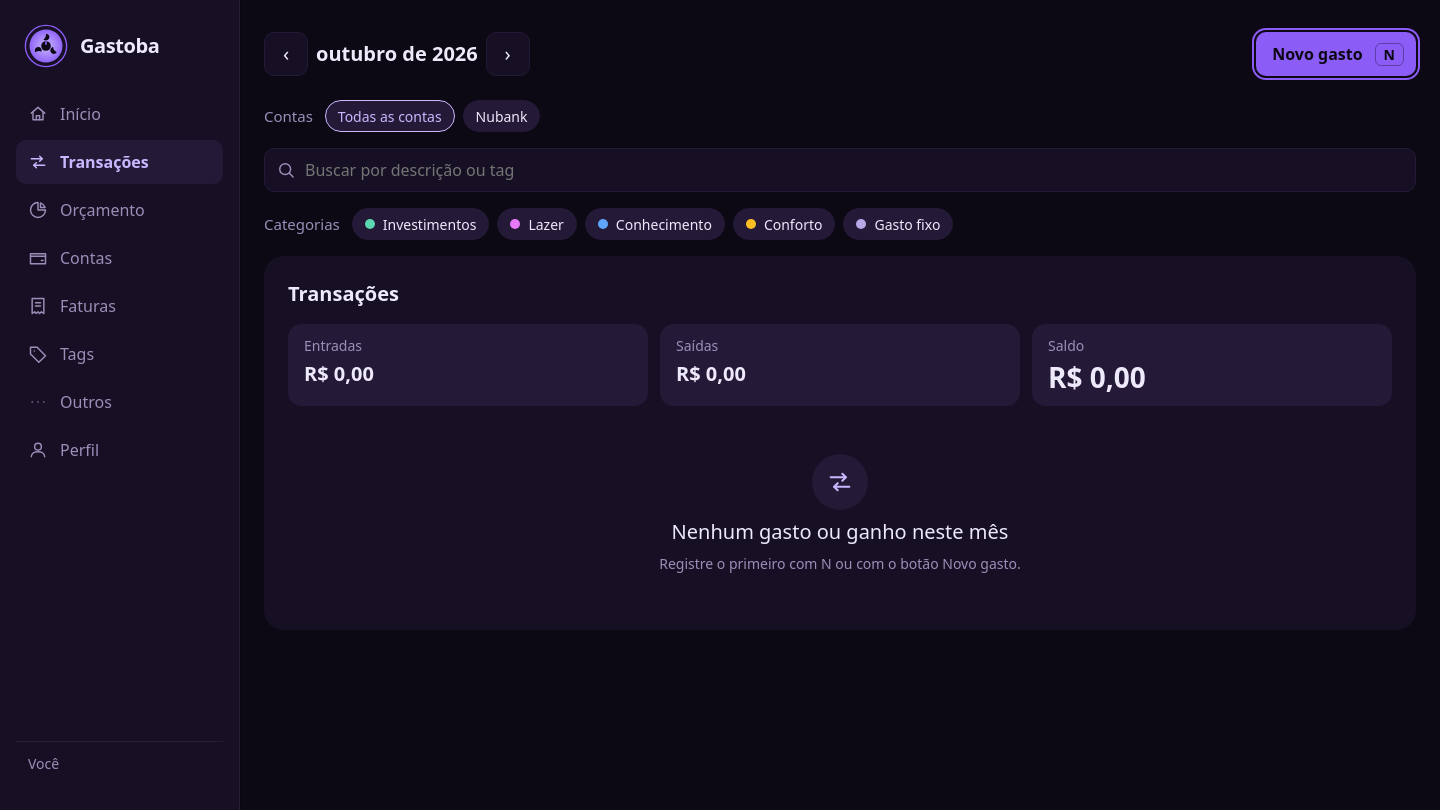
Test: Transações: compositor de gasto › Esc fecha o compositor e devolve o foco ao botão Novo gasto
Expected: the button "Nubank" is shown, [463, 100, 540, 132]
Click the button "Novo gasto N" at coordinates (1336, 54), box [1256, 32, 1416, 76]
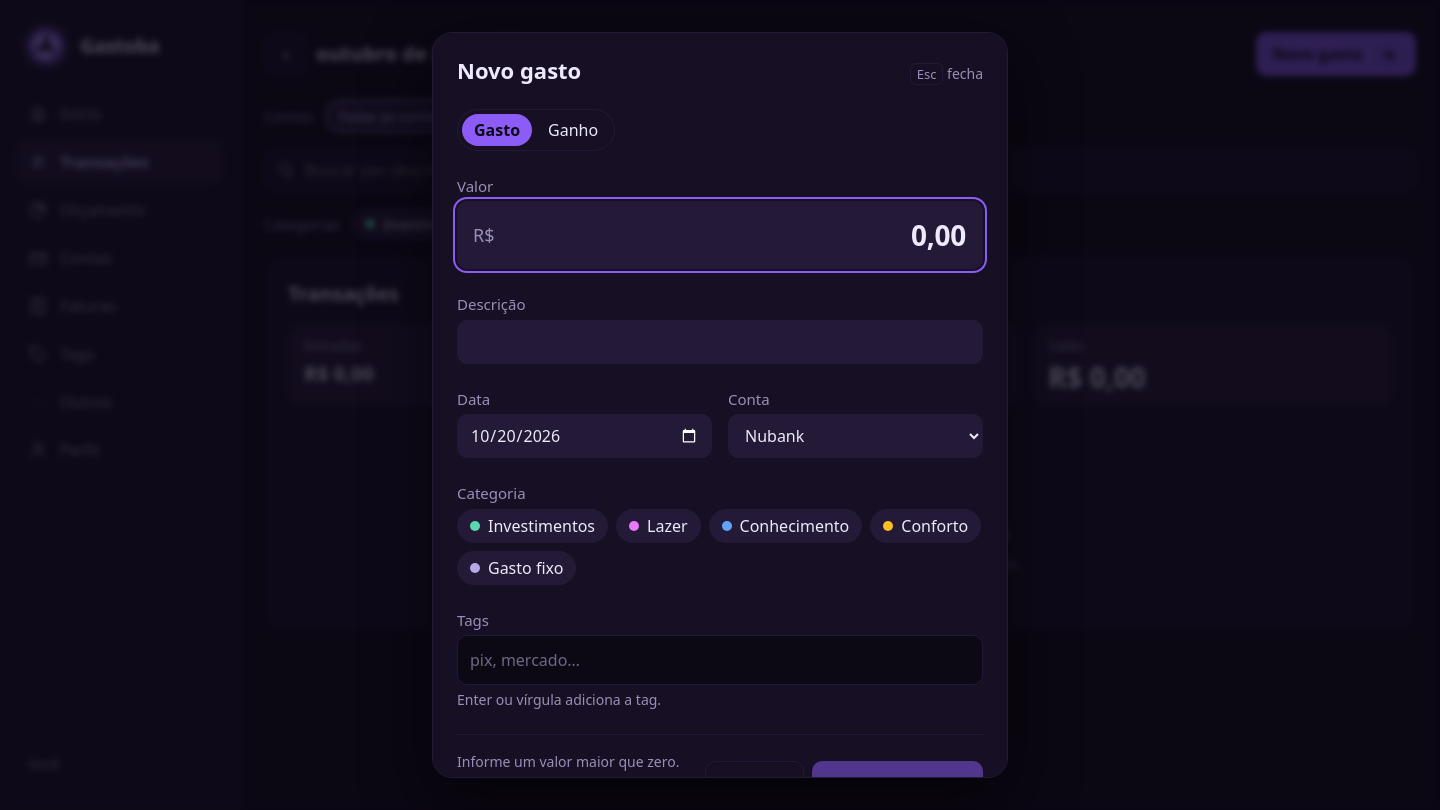
Press Escape in the dialog "Novo gasto", box [432, 32, 1008, 778]
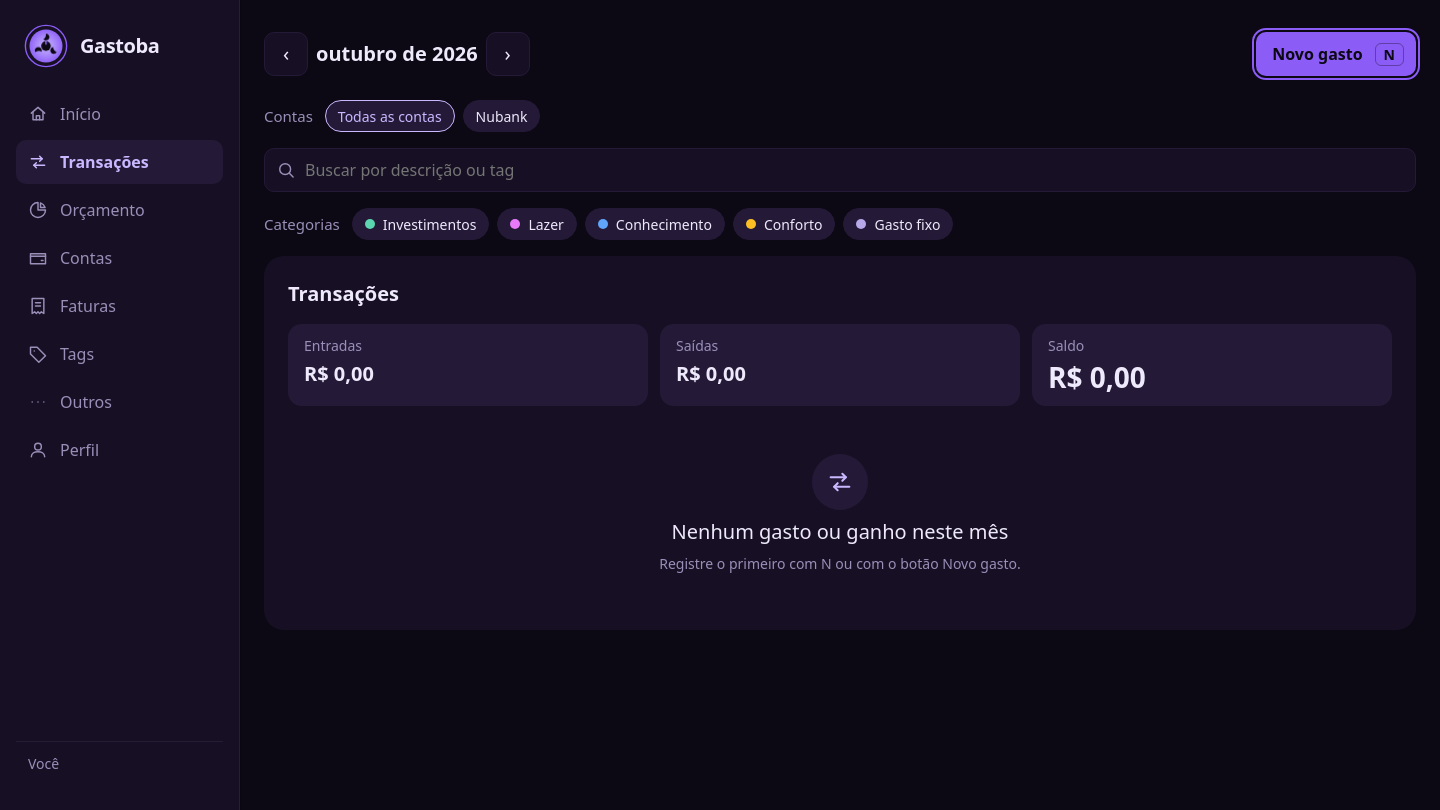
Expected: the dialog is gone
Press n
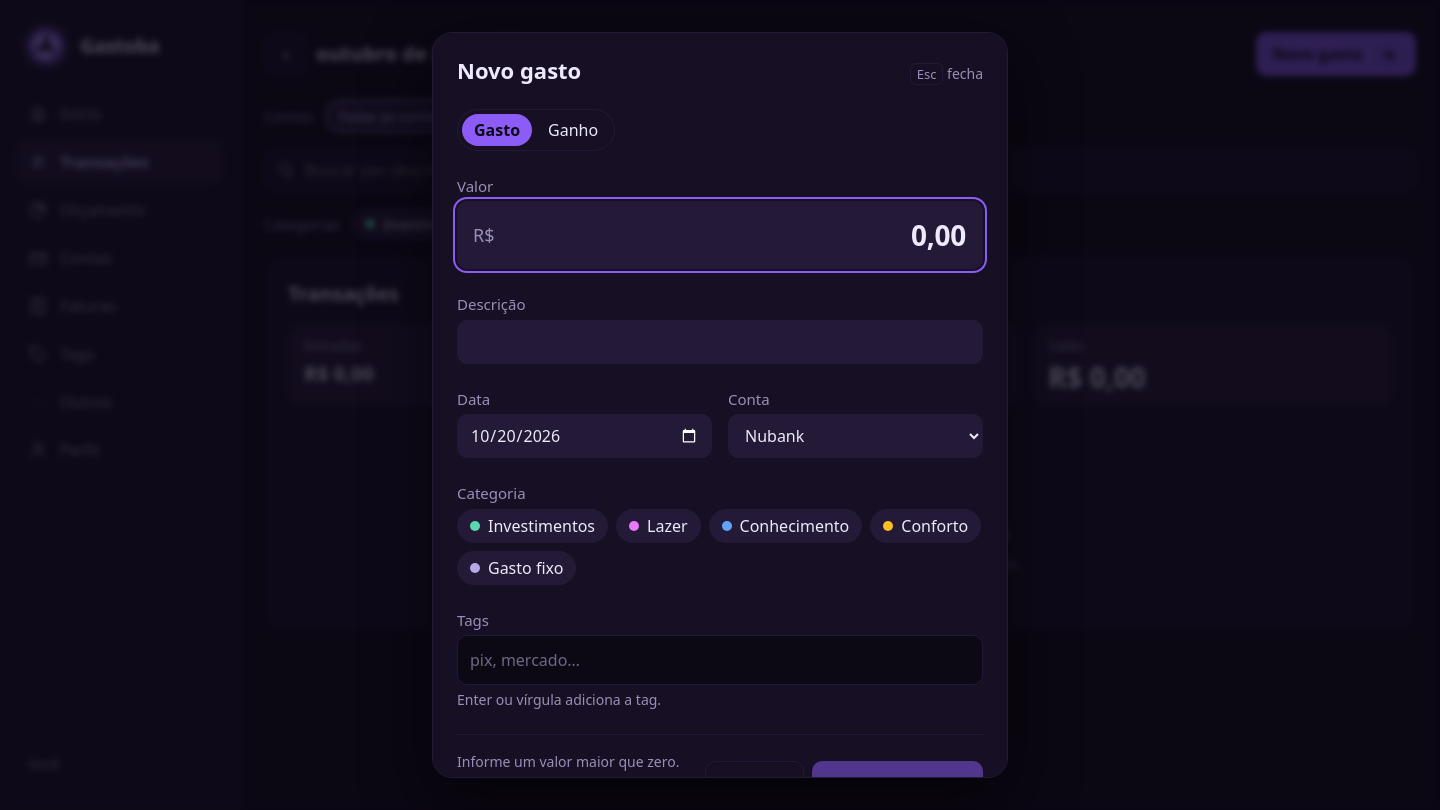
Expected: the dialog "Novo gasto" is shown, [432, 32, 1008, 778]
